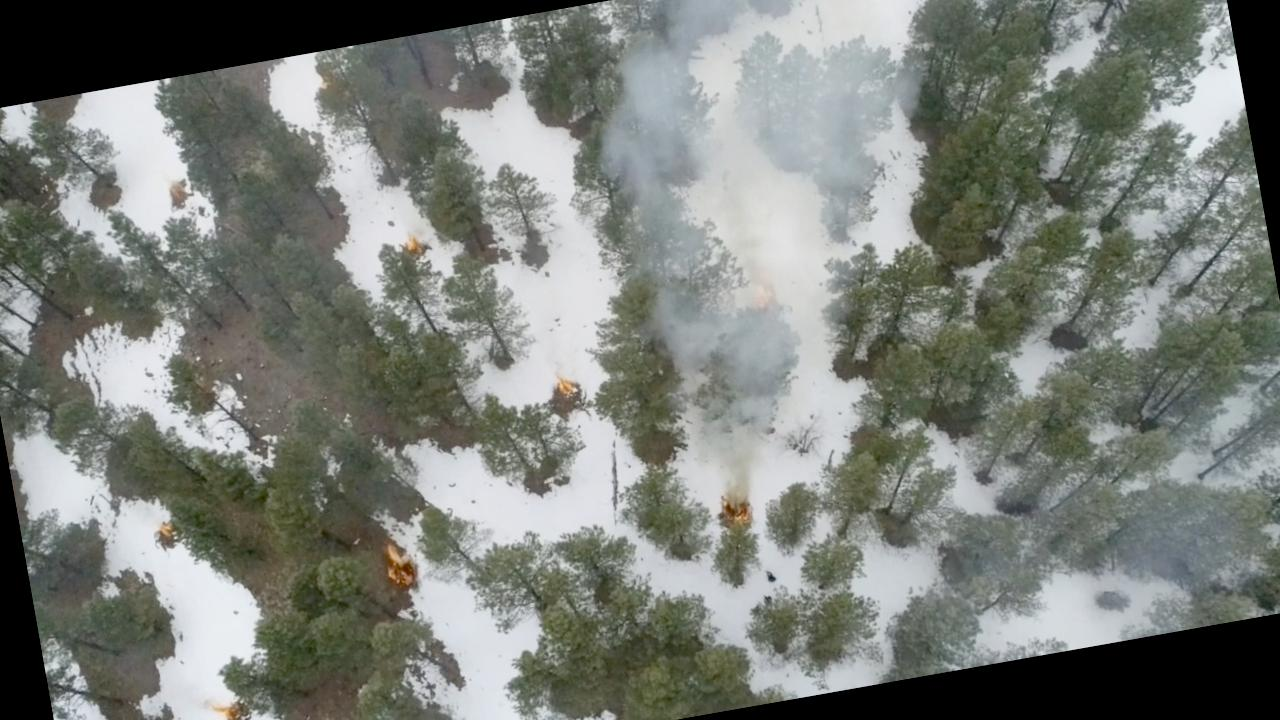fire: (374, 542, 423, 602), (738, 261, 784, 322), (711, 481, 761, 536), (548, 364, 584, 402), (398, 230, 431, 259)
smoke: (571, 0, 949, 237), (626, 201, 859, 415)
